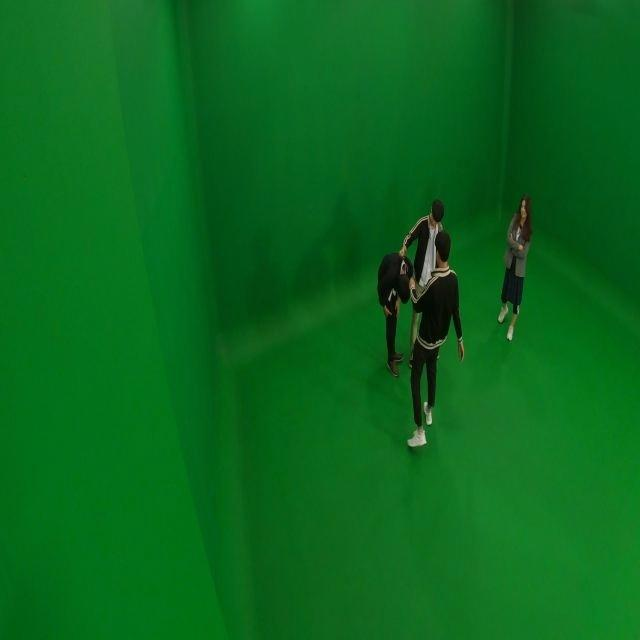fight: (385, 200, 457, 370)
non-fight: (411, 232, 464, 450), (498, 193, 530, 337)
